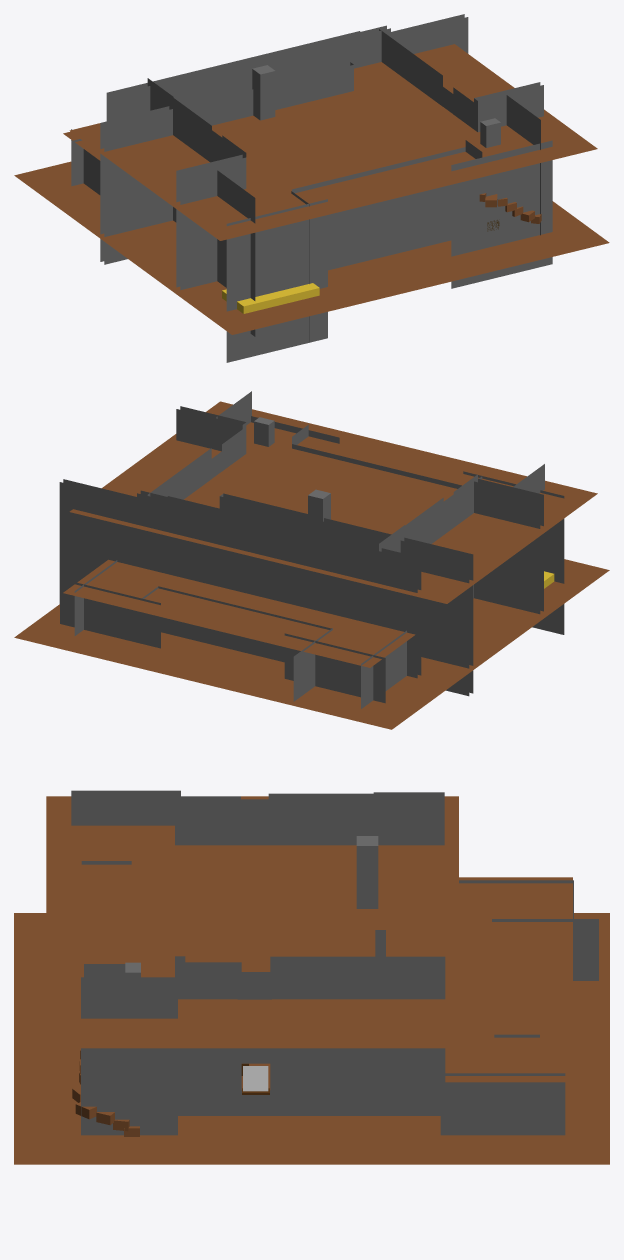
Rendered from castle_full_v3.fbx.
3 renders of one model, top to bottom at view 1: azimuth 30°, elevation 25°; view 2: azimuth 150°, elevation 25°; view 3: azimuth 270°, elevation 25°, orthographic. The views are drawn at different scales.
Visible parts, largest first — view 1: ceil_0, floor, wall_24, wall_4, wall_8, wall_6, wall_23, wall_27, wall_15, wall_14, wall_3, wall_26 (+10 smaller); view 2: ceil_0, wall_23, floor, ceil_1, wall_24, wall_15, wall_27, wall_17, wall_21, wall_19, wall_26, wall_4 (+13 smaller); view 3: ceil_0, floor, ceil_1, wall_14, wall_9, wall_16, wall_13, wall_0, wall_2, wall_3, wall_1, wall_20 (+6 smaller).
Part boxes in pixels (x1,y1,x2,y2): ceil_0: (69,44,597,240); floor: (14,161,609,334); wall_24: (100,62,353,264); wall_4: (226,199,327,362); wall_8: (451,140,552,288); wall_6: (292,147,465,270); wall_23: (106,31,363,121); wall_27: (176,154,246,290); wall_15: (391,14,468,53); wall_14: (379,29,442,106); wall_3: (217,170,255,336); wall_26: (474,82,543,132); ceil_0: (69,401,597,603); wall_23: (164,496,421,678); floor: (14,559,609,729); ceil_1: (63,559,415,667); wall_24: (219,493,473,696); wall_15: (59,479,144,603); wall_27: (474,478,543,614); wall_17: (60,578,160,648); wall_21: (284,633,385,703); wall_19: (158,586,331,662); wall_26: (176,406,246,454); wall_4: (463,471,564,634); ceil_0: (46,796,458,1048); floor: (14,913,609,1164); ceil_1: (445,877,572,1082); wall_14: (270,956,445,1115); wall_9: (81,977,177,1135); wall_16: (440,1073,565,1135); wall_13: (185,962,241,1115); wall_0: (268,793,379,845); wall_2: (373,792,444,845); wall_3: (71,790,180,825); wall_1: (175,796,240,845); wall_20: (492,919,598,980).
Bounding box in the file's own units: 2706 × 1216 × 2613.
